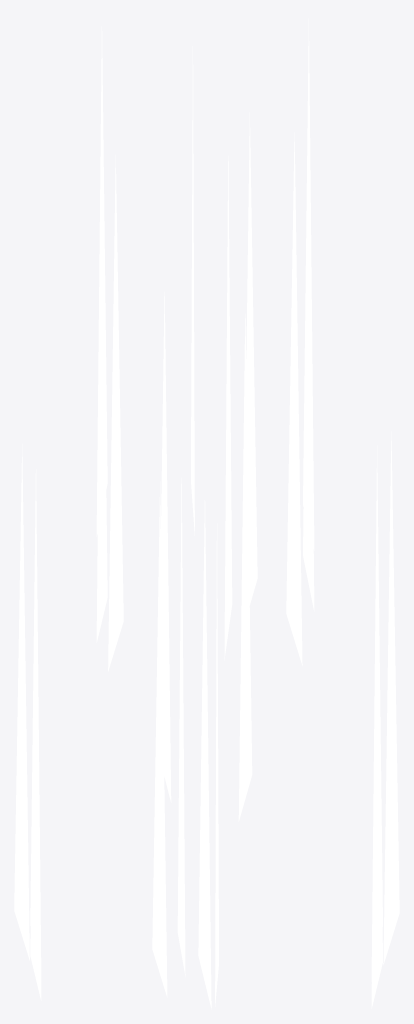
The model's file is cannon4.glb.
The picture shows the model from 3 angles, left to right: view 1: azimuth 90°, elevation 25°; view 2: azimuth 150°, elevation 25°; view 3: azimuth 270°, elevation 25°; orthographic projection. The views are drawn at different scales.
Visible parts, largest first — view 1: group_13; view 2: group_13; view 3: group_13.
Part boxes in pixels (x1,y1,x2,y2): group_13: (14, 26, 123, 1000); group_13: (152, 46, 257, 1009); group_13: (286, 18, 399, 1008).
Size of the model in its own units: 286 by 2818 by 286.
1 material, 1 textured.
